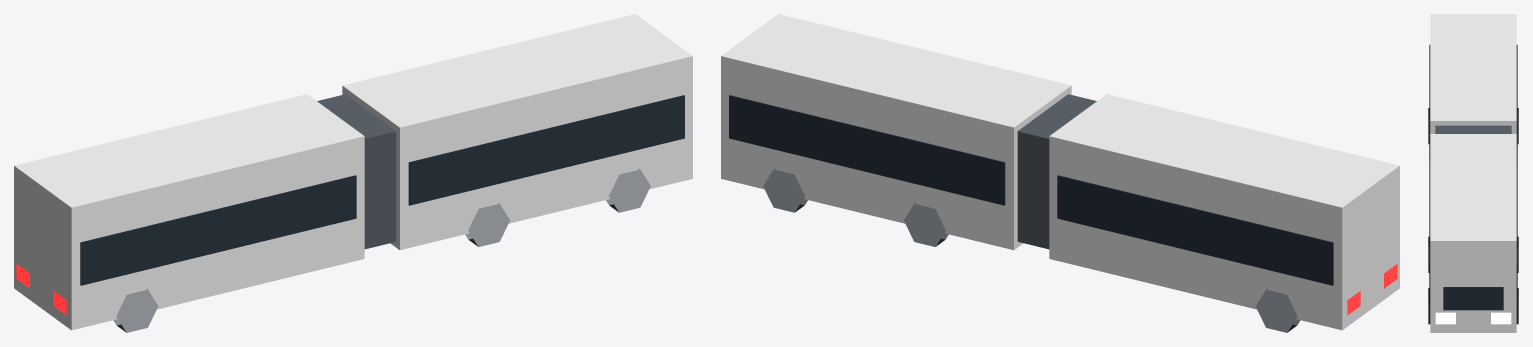
Rendered from bus_articulated.glb.
The picture shows the model from 3 angles, left to right: view 1: azimuth 30°, elevation 25°; view 2: azimuth 150°, elevation 25°; view 3: azimuth 270°, elevation 25°; orthographic projection. The views are drawn at different scales.
Visible parts, largest first — view 1: bus_articulated; view 2: bus_articulated; view 3: bus_articulated.
Boxes of the visible parts, x1,y1,x2,y2 form: bus_articulated: (14, 14, 692, 332); bus_articulated: (721, 14, 1399, 332); bus_articulated: (1428, 14, 1518, 332).
Size of the model in its own units: 1.06 by 0.224 by 0.178.
